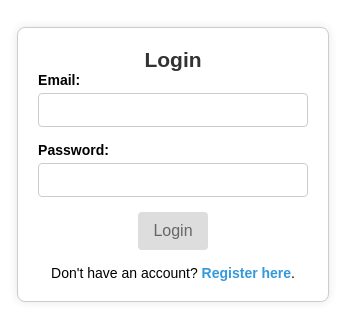
Login Form › displays error message for invalid login
The width and height of the screenshot is (347, 329).
Type "roman" into the field at (173, 110), box x1=38 y1=92 x2=308 y2=126
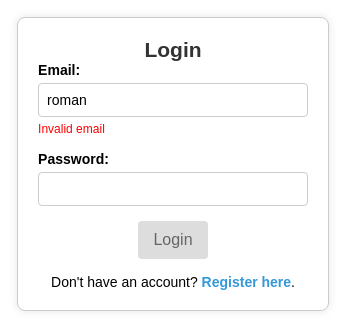
Expected: the button is disabled, x1=138 y1=221 x2=208 y2=259
Expected: the text "Invalid email" is shown, x1=38 y1=122 x2=105 y2=136
